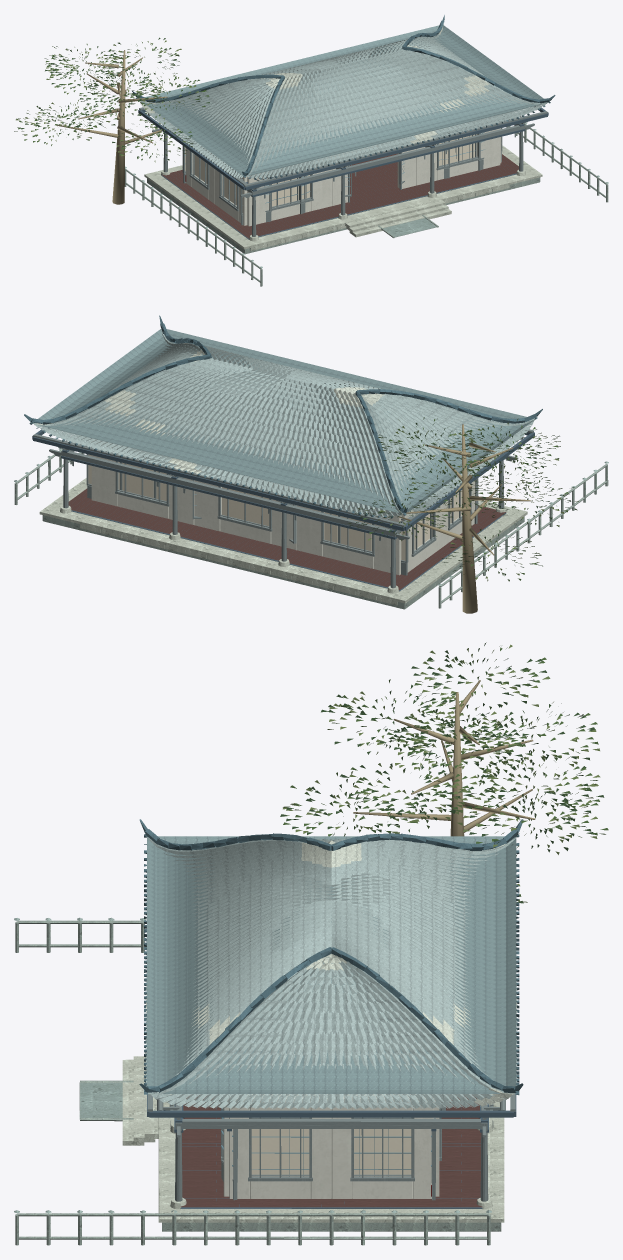
The model's file is reference-public_models_places-low_aojingxiguan.glb.
3 views of the same model, one above another, from view 1: azimuth 30°, elevation 25°; view 2: azimuth 150°, elevation 25°; view 3: azimuth 270°, elevation 25° (orthographic). The views are drawn at different scales.
Visible parts, largest first — view 1: r15_aojingxiguan_Sunwen_r18_moon_tile.001, r15_aojingxiguan_Sunwen_r18_moon_roof.001, r15_aojingxiguan_Sunwen_r18_moon_cutstone.001, r15_aojingxiguan_Sunwen_r18_moon_wood.001, Mobile_aojingxiguan_plants, Mobile_aojingxiguan_floorwood, r15_aojingxiguan_Sunwen_r18_moon_plaster.002, r15_aojingxiguan_Sunwen_r18_moon_stone.001, r15_aojingxiguan_Sunwen_r18_moon_darkwood.001, r15_aojingxiguan_Sunwen_r18_moon_tiledark.001, r15_aojingxiguan_Sunwen_r18_moon_screen.002, r15_aojingxiguan_Sunwen_r18_moon_tilelight.001 (+1 smaller); view 2: r15_aojingxiguan_Sunwen_r18_moon_tile.001, r15_aojingxiguan_Sunwen_r18_moon_roof.001, r15_aojingxiguan_Sunwen_r18_moon_wood.001, r15_aojingxiguan_Sunwen_r18_moon_plaster.002, r15_aojingxiguan_Sunwen_r18_moon_cutstone.001, Mobile_aojingxiguan_plants, Mobile_aojingxiguan_floorwood, r15_aojingxiguan_Sunwen_r18_moon_darkwood.001, r15_aojingxiguan_Sunwen_r18_moon_stone.001, r15_aojingxiguan_Sunwen_r18_moon_tiledark.001, r15_aojingxiguan_Sunwen_r18_moon_screen.001, r15_aojingxiguan_Sunwen_r18_moon_tilelight.001 (+1 smaller); view 3: r15_aojingxiguan_Sunwen_r18_moon_tile.001, r15_aojingxiguan_Sunwen_r18_moon_roof.001, Mobile_aojingxiguan_plants, r15_aojingxiguan_Sunwen_r18_moon_stone.001, r15_aojingxiguan_Sunwen_r18_moon_cutstone.001, r15_aojingxiguan_Sunwen_r18_moon_plaster.002, Mobile_aojingxiguan_floorwood, r15_aojingxiguan_Sunwen_r18_moon_wood.001, r15_aojingxiguan_Sunwen_r18_moon_tiledark.001, r15_aojingxiguan_Sunwen_r18_moon_screen.002, r15_aojingxiguan_Sunwen_r18_moon_darkwood.001, r15_aojingxiguan_Sunwen_r18_moon_tilelight.001 (+2 smaller).
Boxes of the visible parts, x1,y1,x2,y2 form: r15_aojingxiguan_Sunwen_r18_moon_tile.001: (145, 34, 547, 178); r15_aojingxiguan_Sunwen_r18_moon_roof.001: (141, 25, 548, 175); r15_aojingxiguan_Sunwen_r18_moon_cutstone.001: (144, 145, 542, 250); r15_aojingxiguan_Sunwen_r18_moon_wood.001: (139, 107, 547, 236); Mobile_aojingxiguan_plants: (14, 37, 209, 204); Mobile_aojingxiguan_floorwood: (162, 153, 518, 238); r15_aojingxiguan_Sunwen_r18_moon_plaster.002: (185, 117, 501, 226); r15_aojingxiguan_Sunwen_r18_moon_stone.001: (124, 123, 608, 286); r15_aojingxiguan_Sunwen_r18_moon_darkwood.001: (138, 106, 548, 239); r15_aojingxiguan_Sunwen_r18_moon_tiledark.001: (132, 15, 555, 179); r15_aojingxiguan_Sunwen_r18_moon_screen.002: (194, 134, 477, 206); r15_aojingxiguan_Sunwen_r18_moon_tilelight.001: (140, 27, 490, 143); r15_aojingxiguan_Sunwen_r18_moon_tile.001: (33, 331, 535, 516); r15_aojingxiguan_Sunwen_r18_moon_roof.001: (32, 329, 534, 514); r15_aojingxiguan_Sunwen_r18_moon_wood.001: (33, 429, 533, 588); r15_aojingxiguan_Sunwen_r18_moon_plaster.002: (91, 440, 475, 575); r15_aojingxiguan_Sunwen_r18_moon_cutstone.001: (39, 478, 527, 605); Mobile_aojingxiguan_plants: (348, 417, 578, 613); Mobile_aojingxiguan_floorwood: (68, 488, 505, 590); r15_aojingxiguan_Sunwen_r18_moon_darkwood.001: (32, 427, 534, 591); r15_aojingxiguan_Sunwen_r18_moon_stone.001: (14, 449, 608, 609); r15_aojingxiguan_Sunwen_r18_moon_tiledark.001: (24, 315, 542, 518); r15_aojingxiguan_Sunwen_r18_moon_screen.001: (88, 454, 405, 560); r15_aojingxiguan_Sunwen_r18_moon_tilelight.001: (34, 343, 415, 516); r15_aojingxiguan_Sunwen_r18_moon_tile.001: (146, 837, 517, 1109); r15_aojingxiguan_Sunwen_r18_moon_roof.001: (147, 836, 516, 1093); Mobile_aojingxiguan_plants: (280, 642, 608, 903); r15_aojingxiguan_Sunwen_r18_moon_stone.001: (15, 920, 501, 1245); r15_aojingxiguan_Sunwen_r18_moon_cutstone.001: (122, 1053, 504, 1222); r15_aojingxiguan_Sunwen_r18_moon_plaster.002: (223, 1094, 439, 1198); Mobile_aojingxiguan_floorwood: (181, 1095, 482, 1207); r15_aojingxiguan_Sunwen_r18_moon_wood.001: (147, 1094, 515, 1201); r15_aojingxiguan_Sunwen_r18_moon_tiledark.001: (139, 819, 523, 1095); r15_aojingxiguan_Sunwen_r18_moon_screen.002: (251, 1129, 411, 1174); r15_aojingxiguan_Sunwen_r18_moon_darkwood.001: (147, 1094, 516, 1208); r15_aojingxiguan_Sunwen_r18_moon_tilelight.001: (146, 840, 517, 1106).
Bounding box in the file's own units: 28.33 × 9.15 × 18.92.
Materials: 15 (14 with a texture image).
